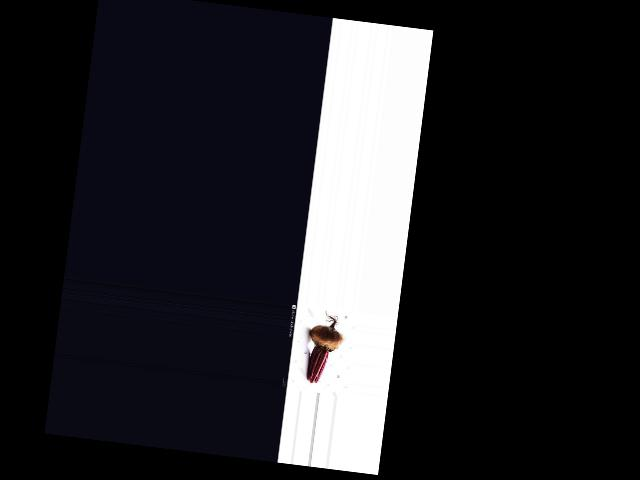beet: (304, 309, 346, 386)
